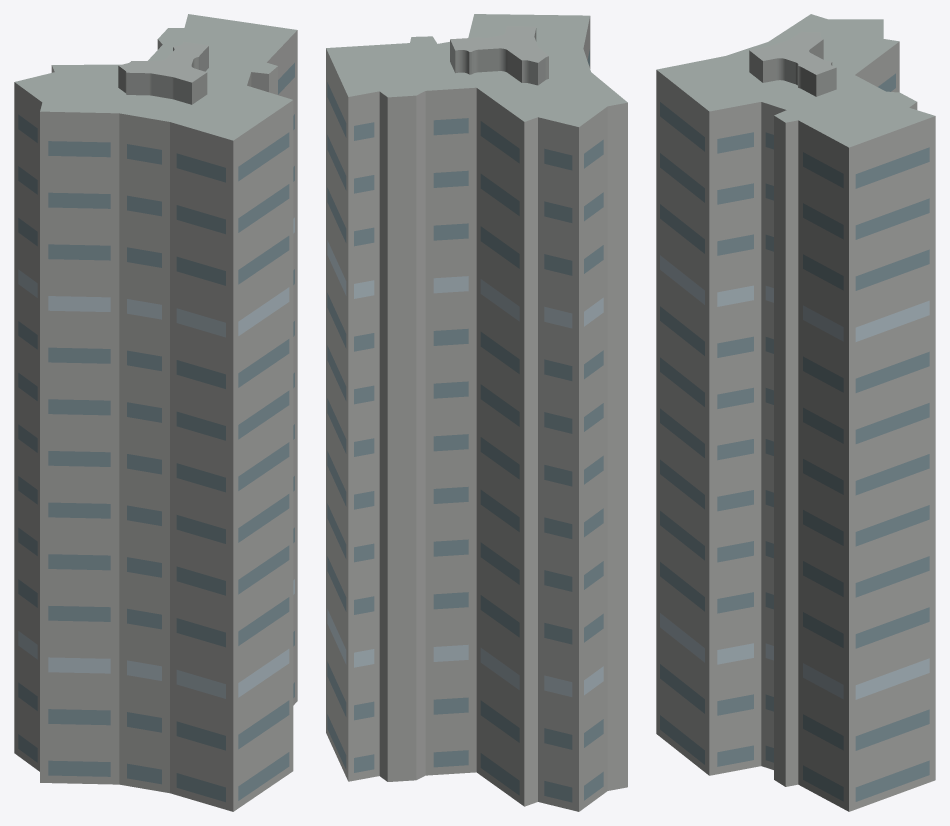
The model's file is fallback-gangdong-lotte-castle-first-119.glb.
3 views of the same model, side by side, from view 1: azimuth 30°, elevation 25°; view 2: azimuth 150°, elevation 25°; view 3: azimuth 270°, elevation 25° (orthographic). The views are drawn at different scales.
Parts seen in each view (by area): view 1: fallback-gangdong-lotte-castle-first-119; view 2: fallback-gangdong-lotte-castle-first-119; view 3: fallback-gangdong-lotte-castle-first-119.
Boxes of the visible parts, box(x1,y1,x2,y2) form: fallback-gangdong-lotte-castle-first-119: box(14, 14, 297, 811); fallback-gangdong-lotte-castle-first-119: box(326, 14, 627, 811); fallback-gangdong-lotte-castle-first-119: box(656, 14, 935, 811).
Size of the model in its own units: 31.33 by 75 by 27.66.
